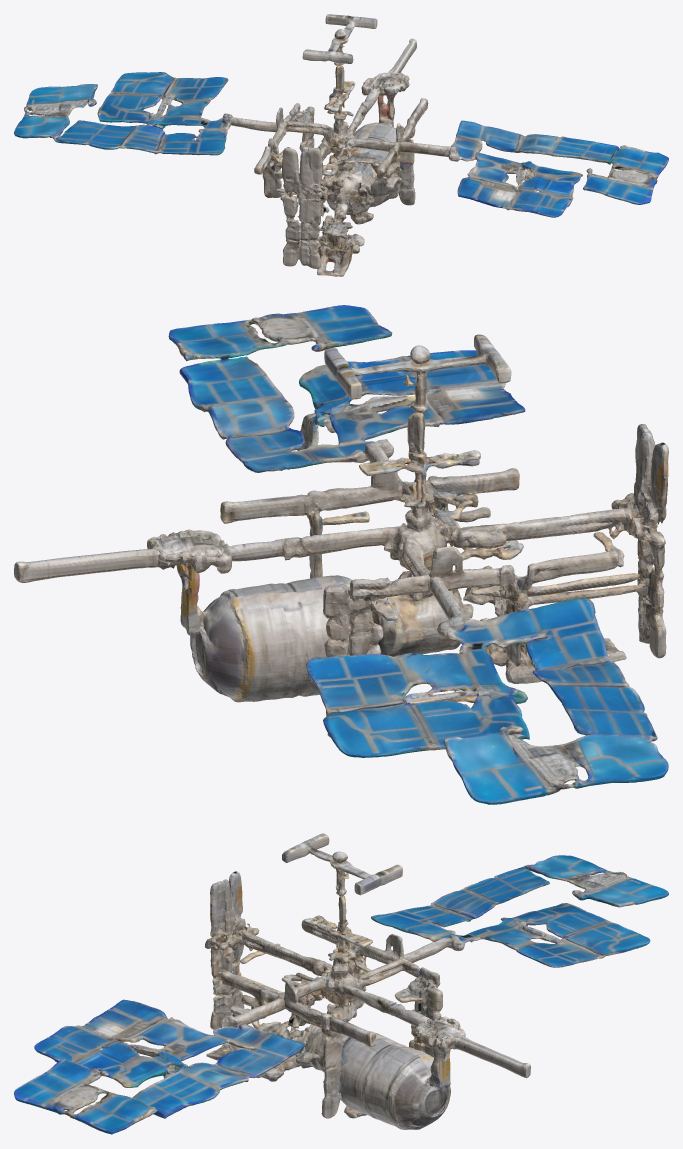
The model's file is spacestat.fbx.
3 renders of one model, top to bottom at view 1: azimuth 30°, elevation 25°; view 2: azimuth 150°, elevation 25°; view 3: azimuth 270°, elevation 25°, orthographic. The views are drawn at different scales.
Visible parts, largest first — view 1: temp; view 2: temp; view 3: temp.
Part boxes in pixels (left/top/right/bottom): temp: left=14, top=14, right=668, bottom=276; temp: left=14, top=305, right=668, bottom=804; temp: left=14, top=833, right=668, bottom=1134.
Bounding box in the file's own units: 24.87 × 10.38 × 24.87.
Materials: 1 (1 with a texture image).
